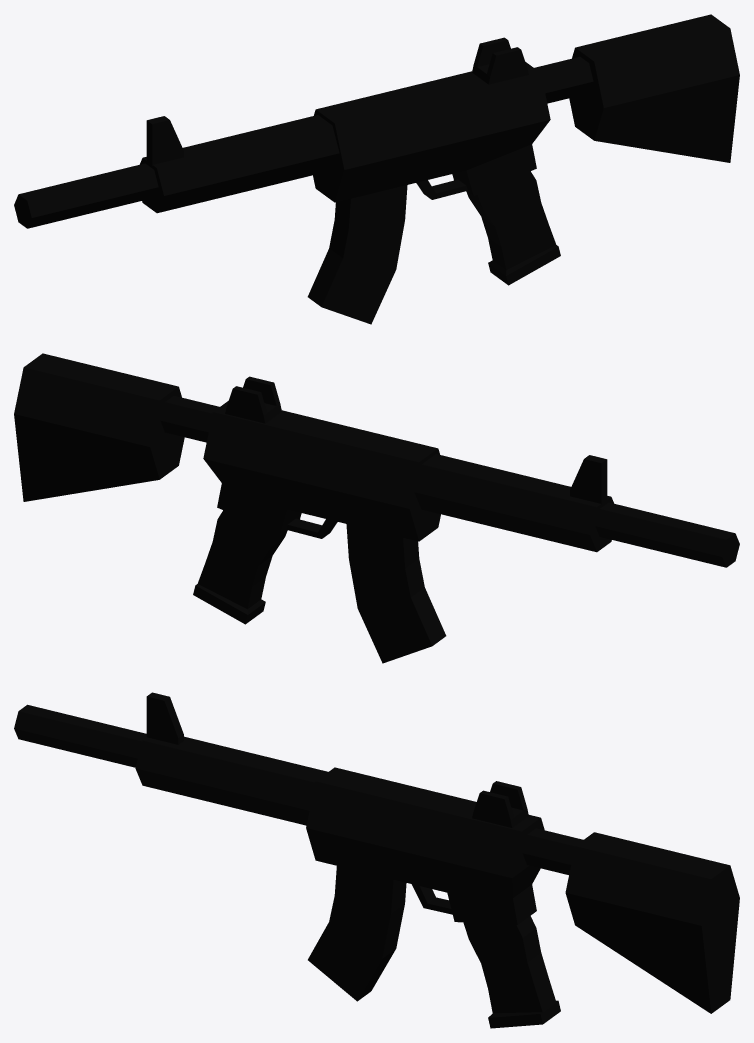
Rendered from AssaultRifle.fbx.
The picture shows the model from 3 angles, top to bottom: view 1: azimuth 30°, elevation 25°; view 2: azimuth 150°, elevation 25°; view 3: azimuth 330°, elevation 25°; orthographic projection.
Visible parts, largest first — view 1: AssaultRifle; view 2: AssaultRifle; view 3: AssaultRifle.
Part boxes in pixels (<box>): AssaultRifle: <box>14,14,739,324</box>; AssaultRifle: <box>14,353,739,663</box>; AssaultRifle: <box>14,692,739,1028</box>.
Size of the model in its own units: 113 by 38.47 by 10.71.
Materials: 1 (1 with a texture image).
